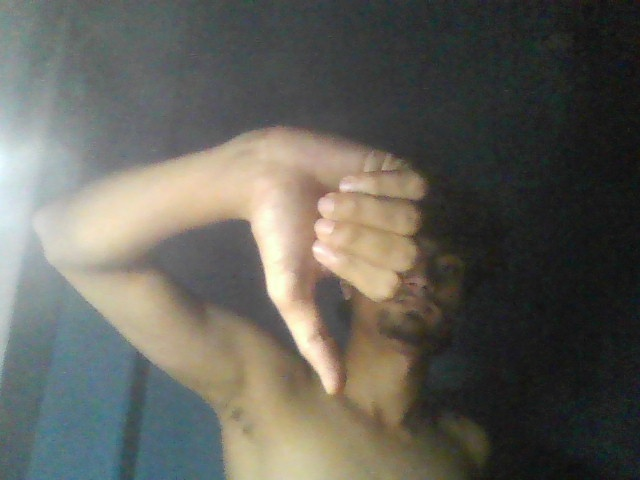ThumbsDown: (240, 118, 426, 396)
